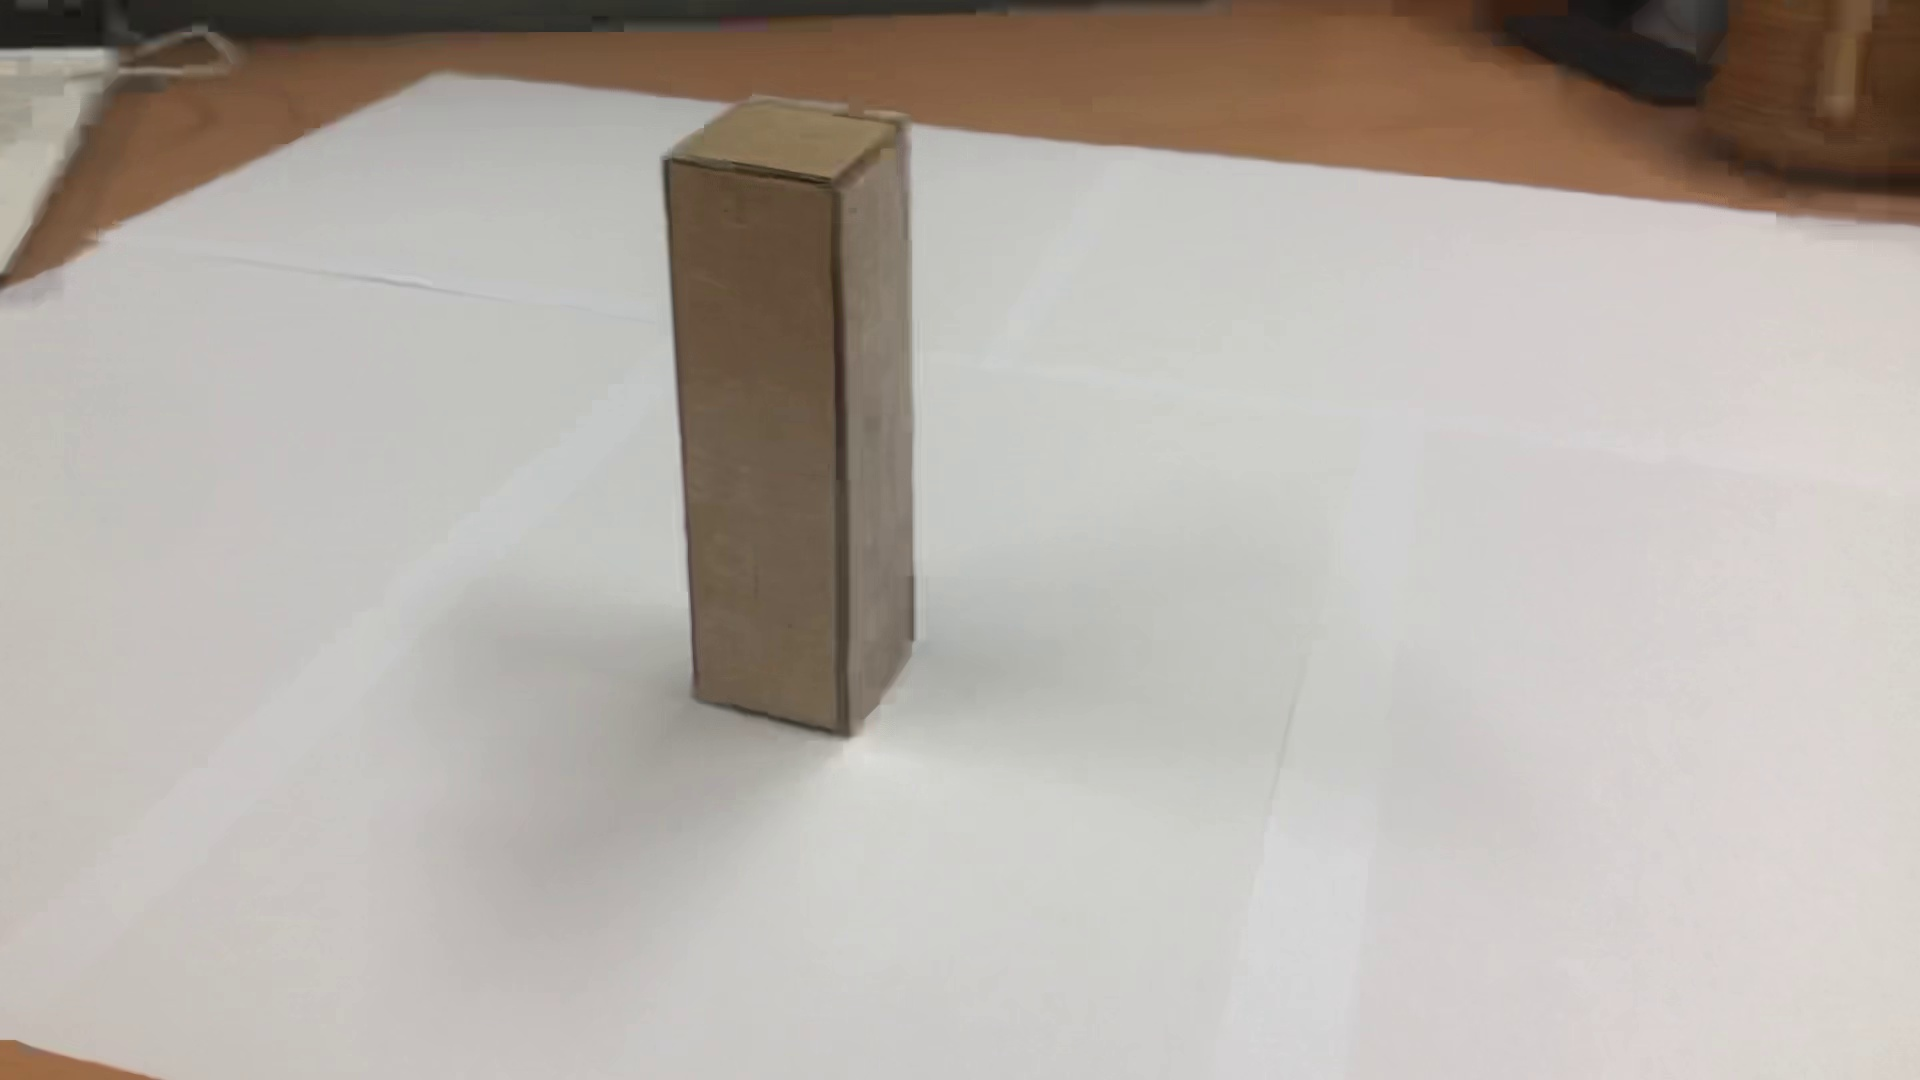box: (638, 61, 951, 773)
